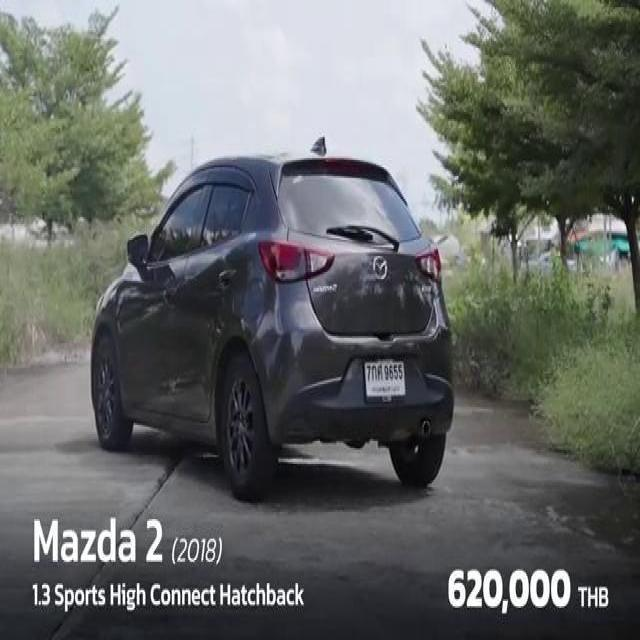Hatchback: (91, 139, 453, 500)
